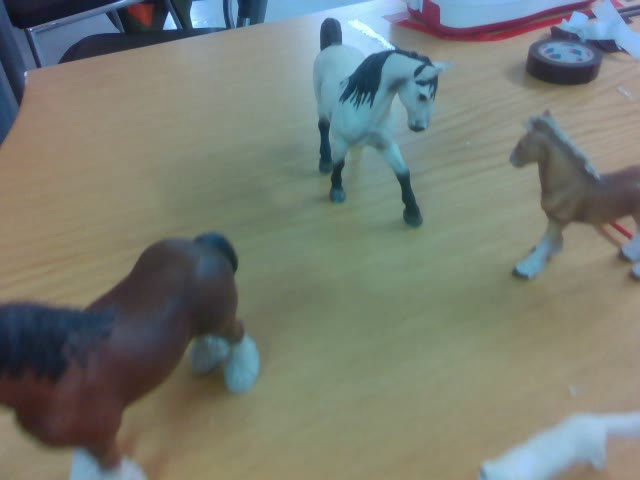toy: (314, 16, 454, 226)
